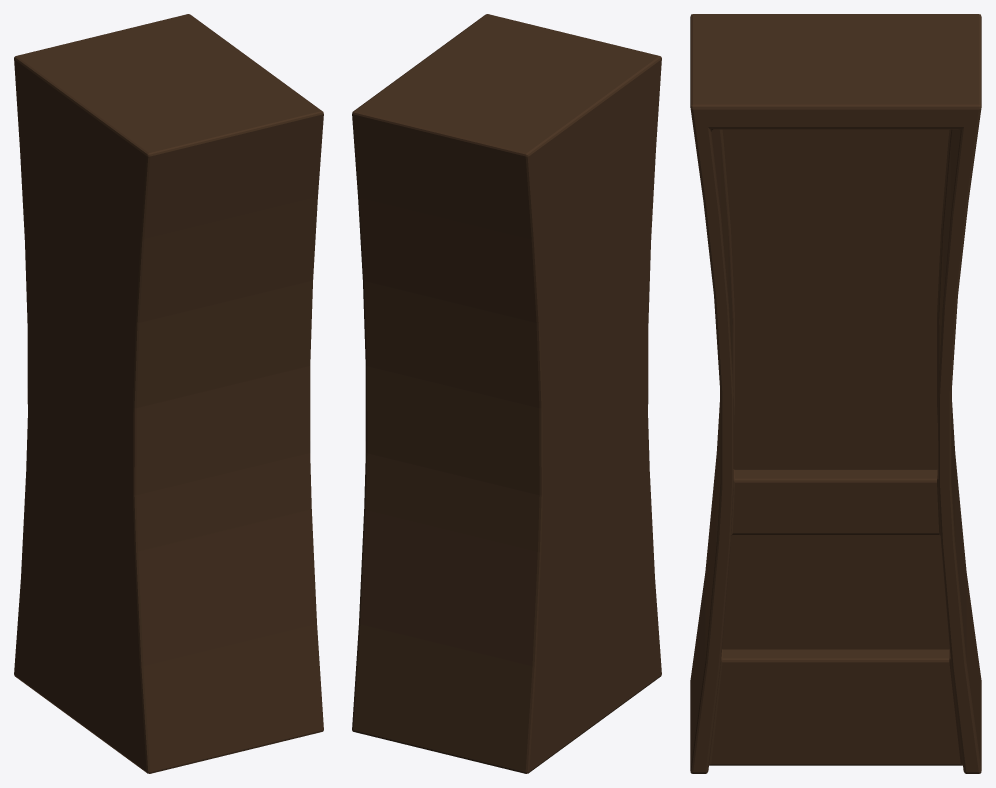
Rendered from ShelfV4.fbx.
3 views of the same model, side by side, from view 1: azimuth 30°, elevation 25°; view 2: azimuth 150°, elevation 25°; view 3: azimuth 270°, elevation 25° (orthographic). The views are drawn at different scales.
Parts seen in each view (by area): view 1: Cube.018; view 2: Cube.018; view 3: Cube.018.
Boxes of the visible parts, bbox=[...] form: Cube.018: bbox=[14, 14, 323, 773]; Cube.018: bbox=[352, 14, 661, 773]; Cube.018: bbox=[690, 14, 981, 773].
Size of the model in its own units: 74.62 by 250 by 98.57.
